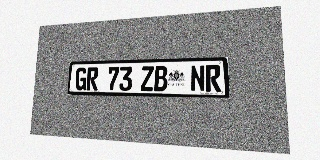3: (119, 66, 132, 91)
7: (107, 67, 119, 91)
B: (154, 66, 168, 91)
G: (75, 67, 87, 90)
N: (190, 65, 205, 92)
R: (205, 65, 221, 92), (86, 67, 99, 90)
Z: (140, 66, 154, 91)
